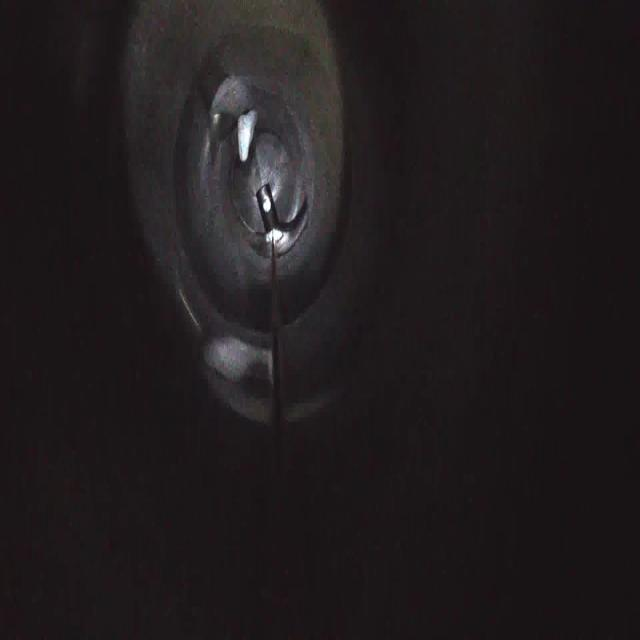impurity: (230, 99, 262, 170)
